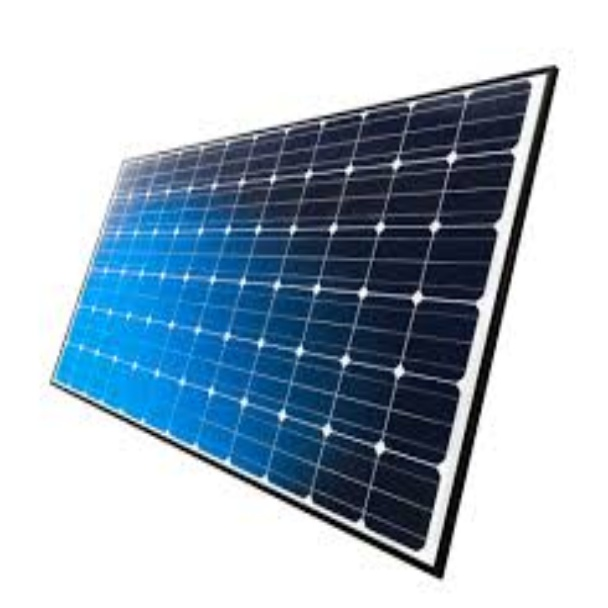solarpanels: (50, 68, 559, 577)
